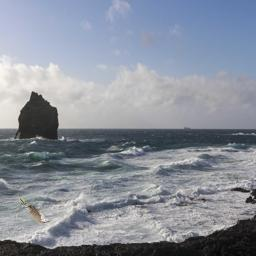Cuckoo: (19, 198, 50, 223)
